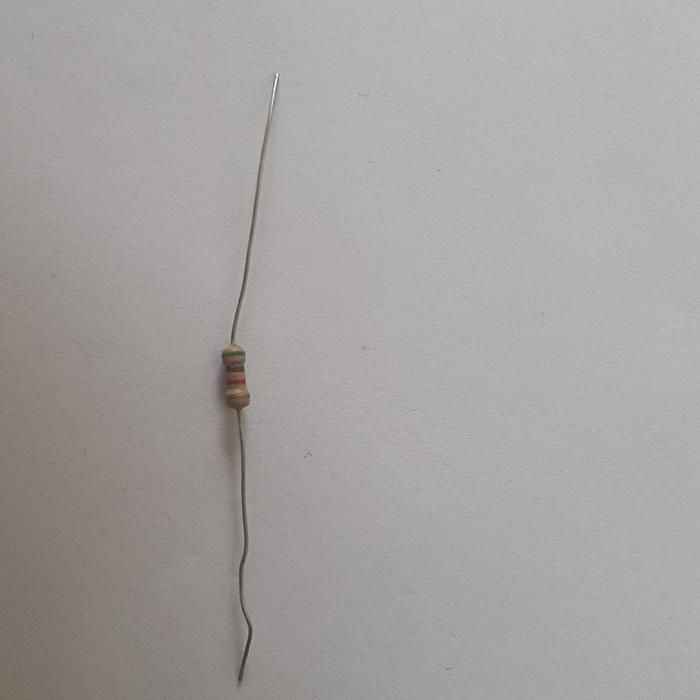resistor: (220, 341, 251, 410)
